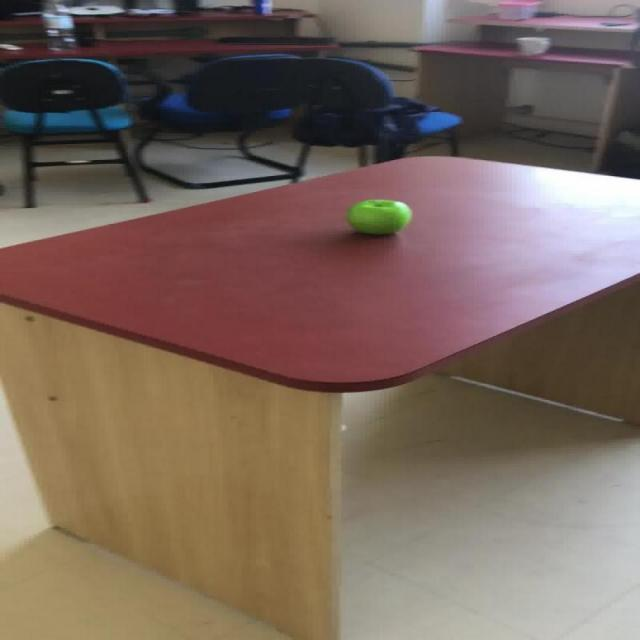Apple: (346, 199, 412, 235)
